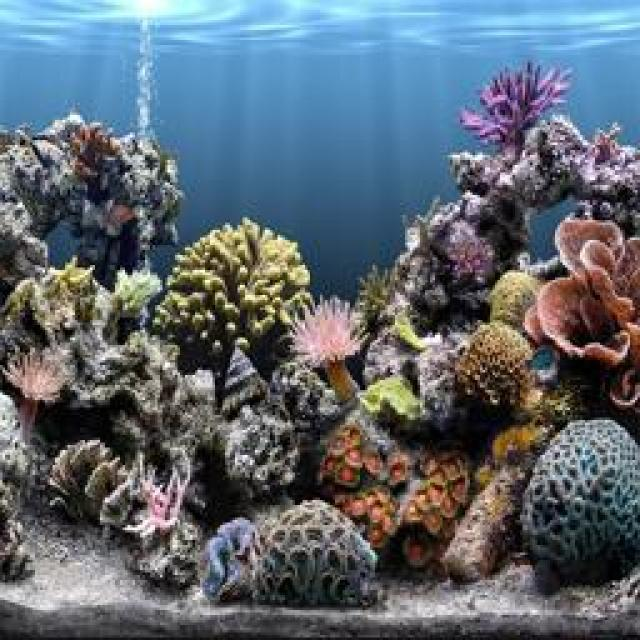reefs: (319, 419, 471, 563), (527, 219, 638, 415), (147, 219, 312, 350), (201, 495, 382, 612), (525, 418, 638, 580), (457, 62, 572, 148), (293, 295, 368, 403), (455, 322, 542, 410), (3, 349, 73, 442)
